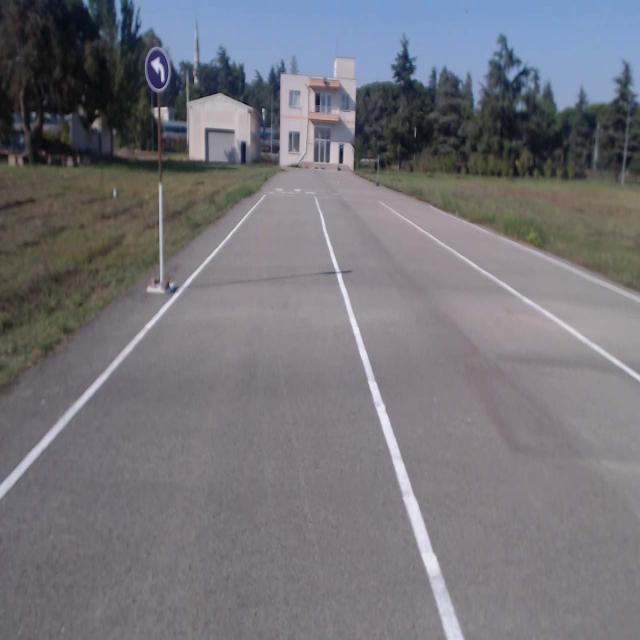sol: (144, 48, 172, 94)
